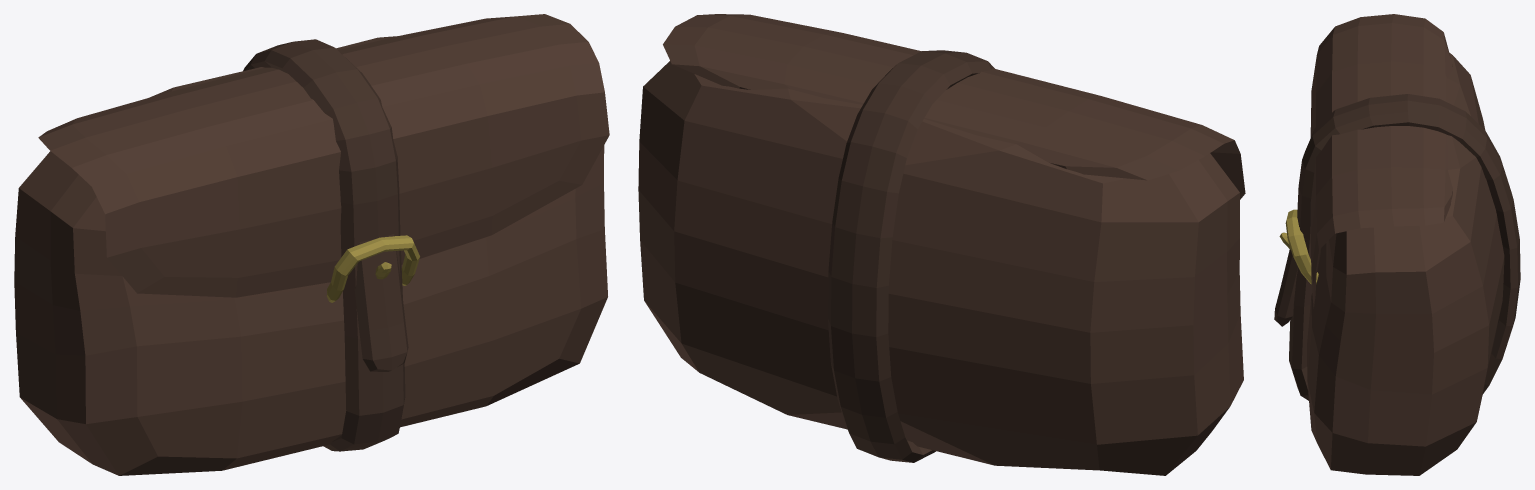
File: bag.glb
3 views of the same model, side by side, from view 1: azimuth 30°, elevation 25°; view 2: azimuth 150°, elevation 25°; view 3: azimuth 270°, elevation 25° (orthographic). The views are drawn at different scales.
Parts seen in each view (by area): view 1: Bag; view 2: Bag; view 3: Bag.
Boxes of the visible parts, x1,y1,x2,y2 form: Bag: (14,14,609,475); Bag: (638,14,1245,475); Bag: (1274,14,1520,475).
Size of the model in its own units: 0.34 by 0.2208 by 0.1589.
